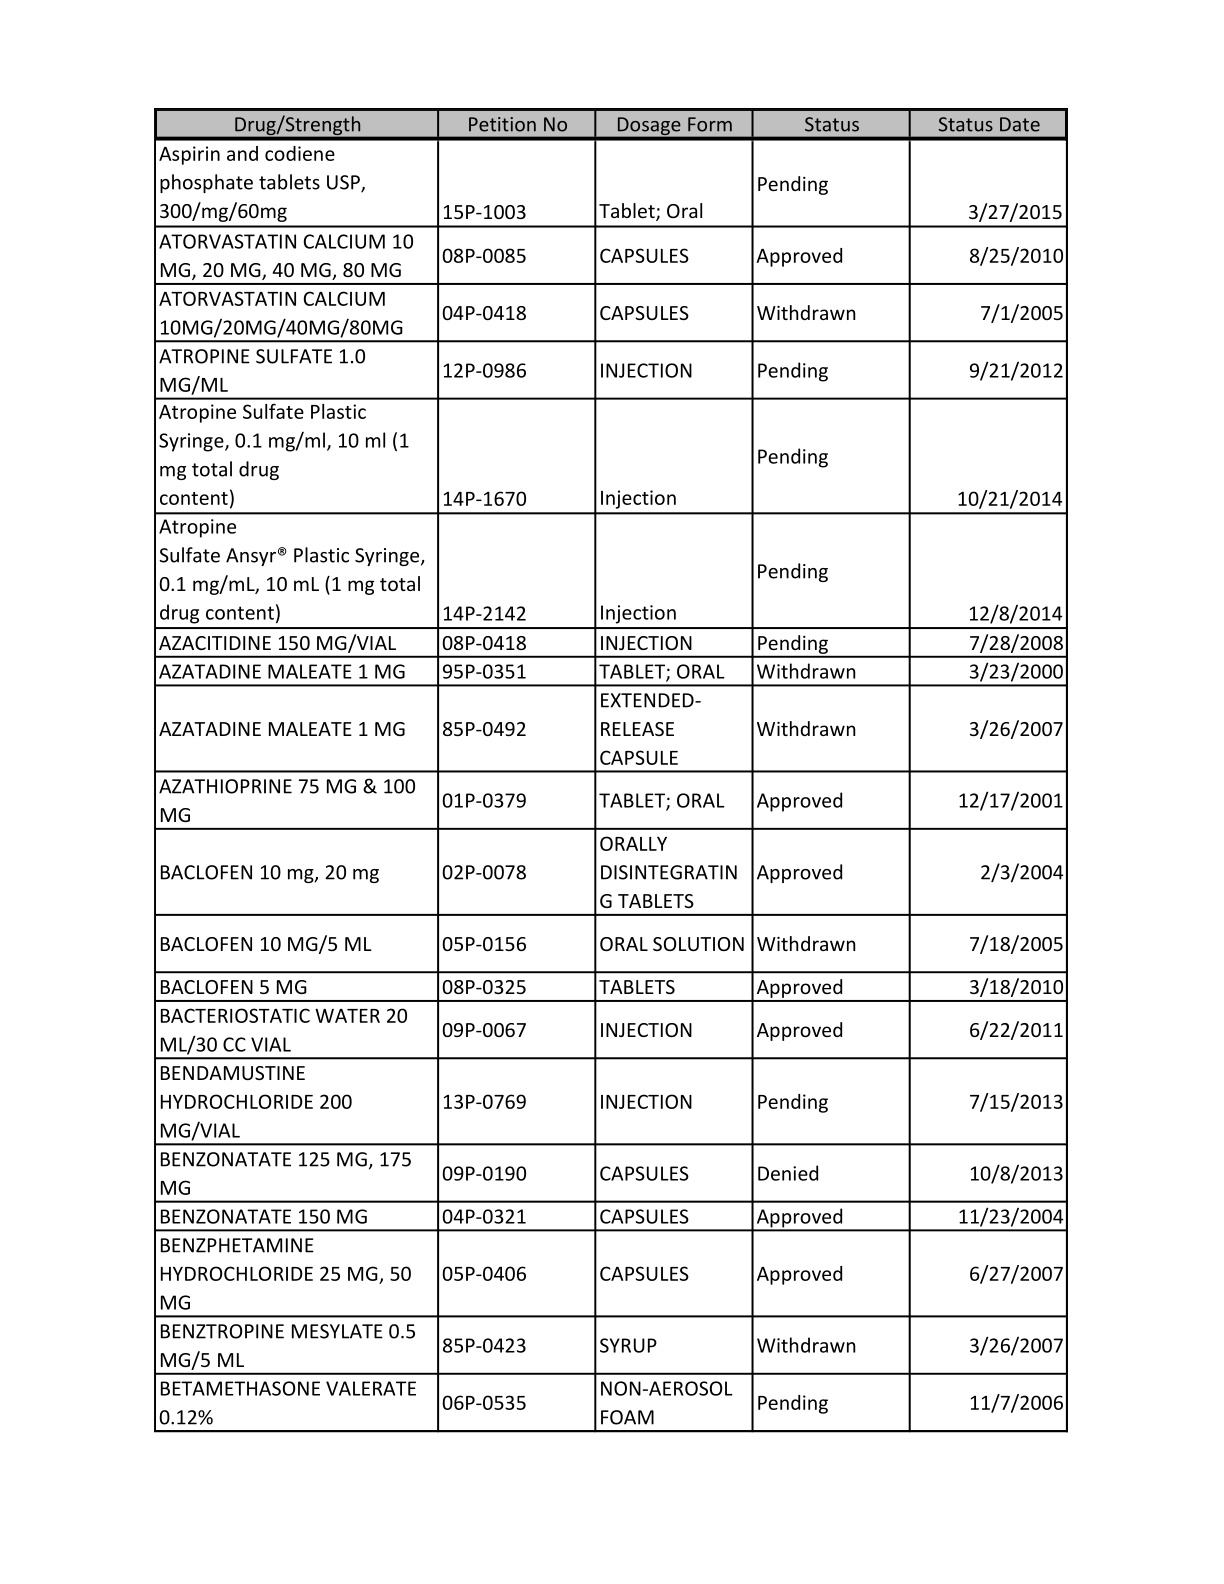full_lined: (154, 107, 1068, 1434)
